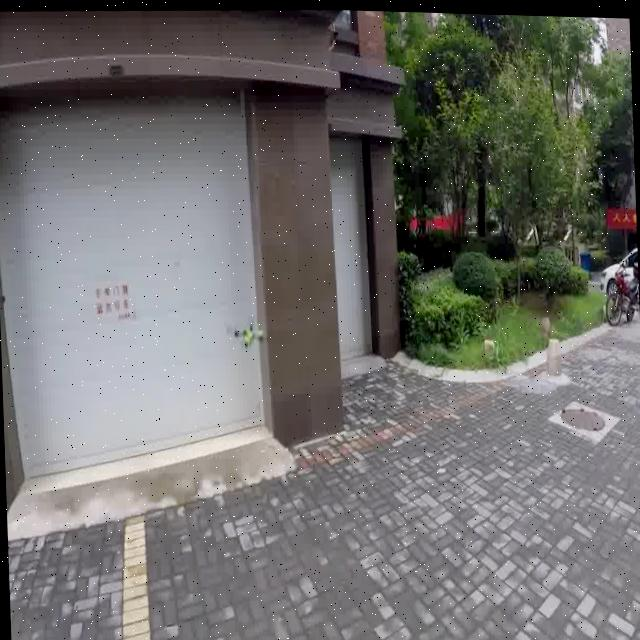drone: (220, 287, 270, 357)
